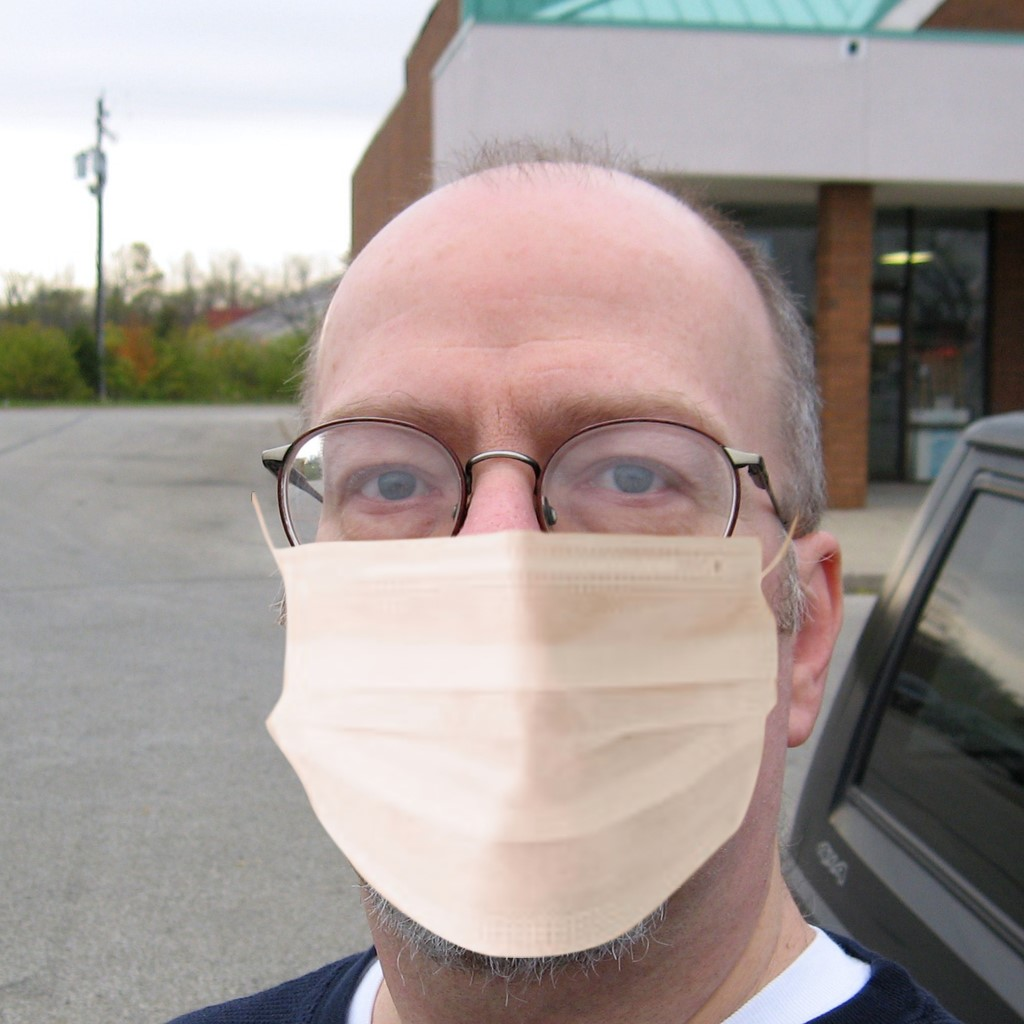con_mascara: (281, 173, 841, 985)
